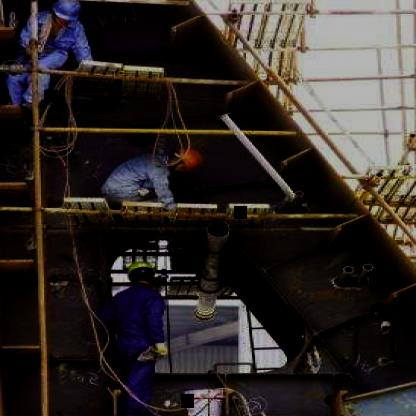helmet: (117, 258, 158, 286), (48, 0, 84, 30), (162, 148, 204, 172)
